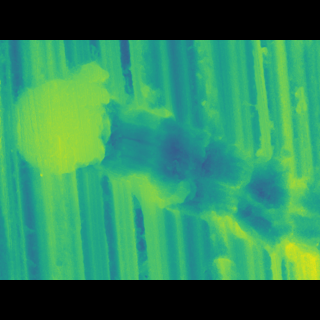Loch: (2, 82, 320, 244)
